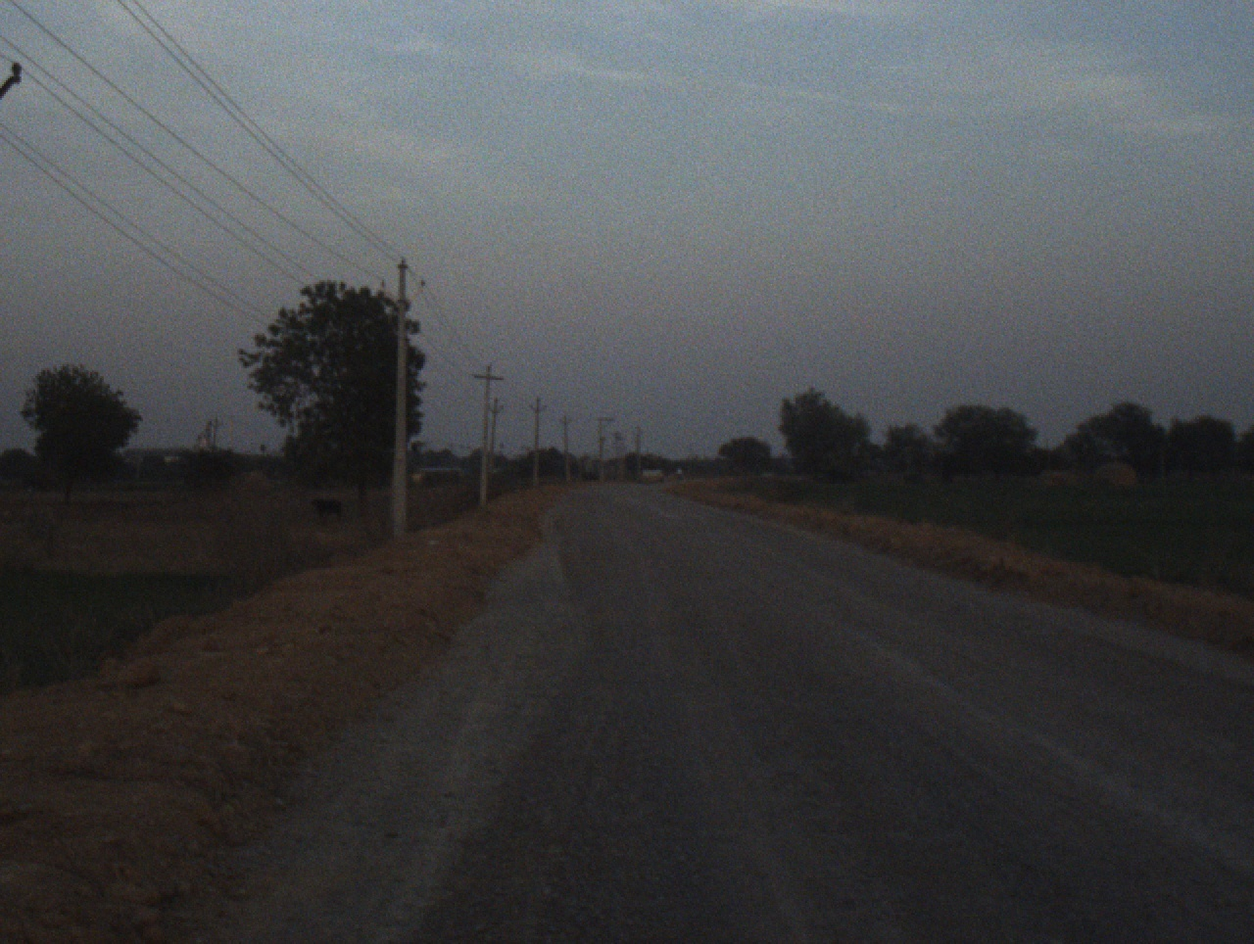animal: (304, 490, 347, 524)
vehicle fallback: (630, 448, 672, 487)
